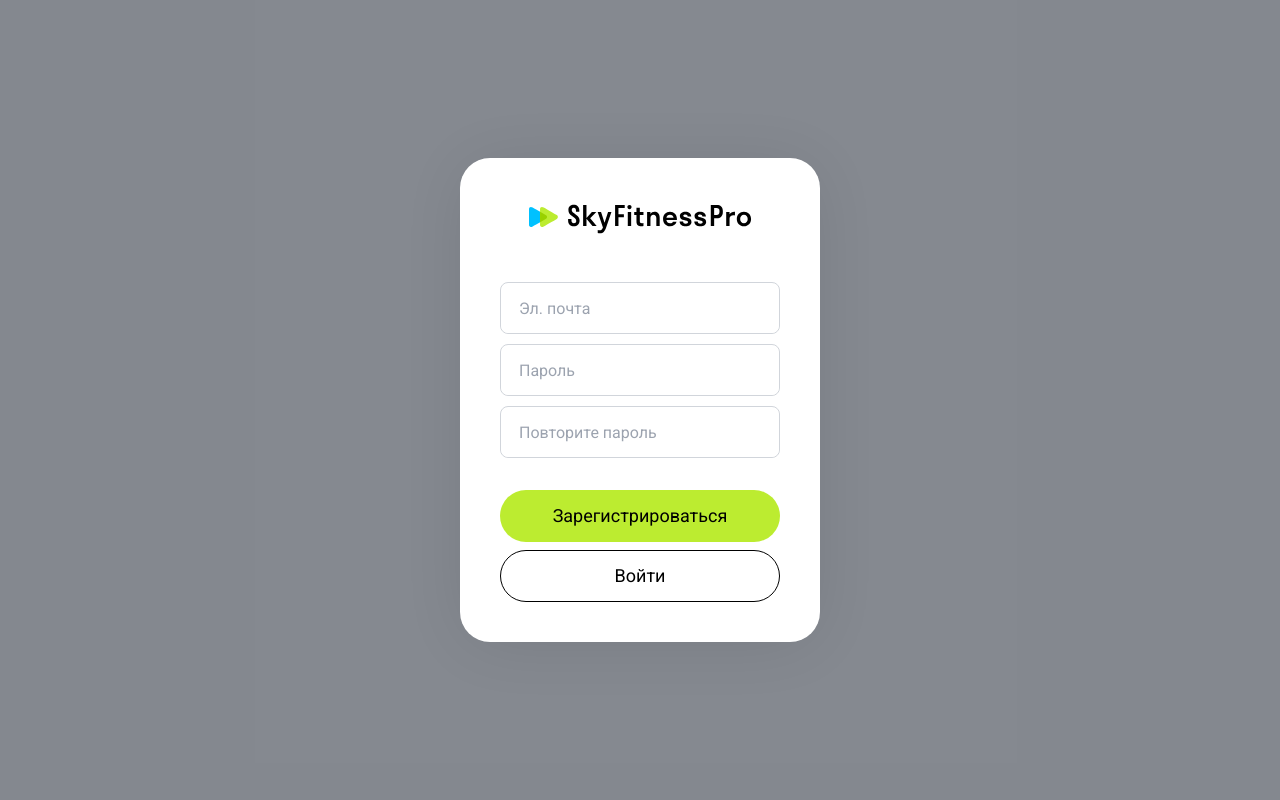
Register Component › должен показывать ошибку при несовпадающих паролях
Type "test@example.com" into the field with placeholder "Эл. почта" at [640, 308], box [501,284,779,332]
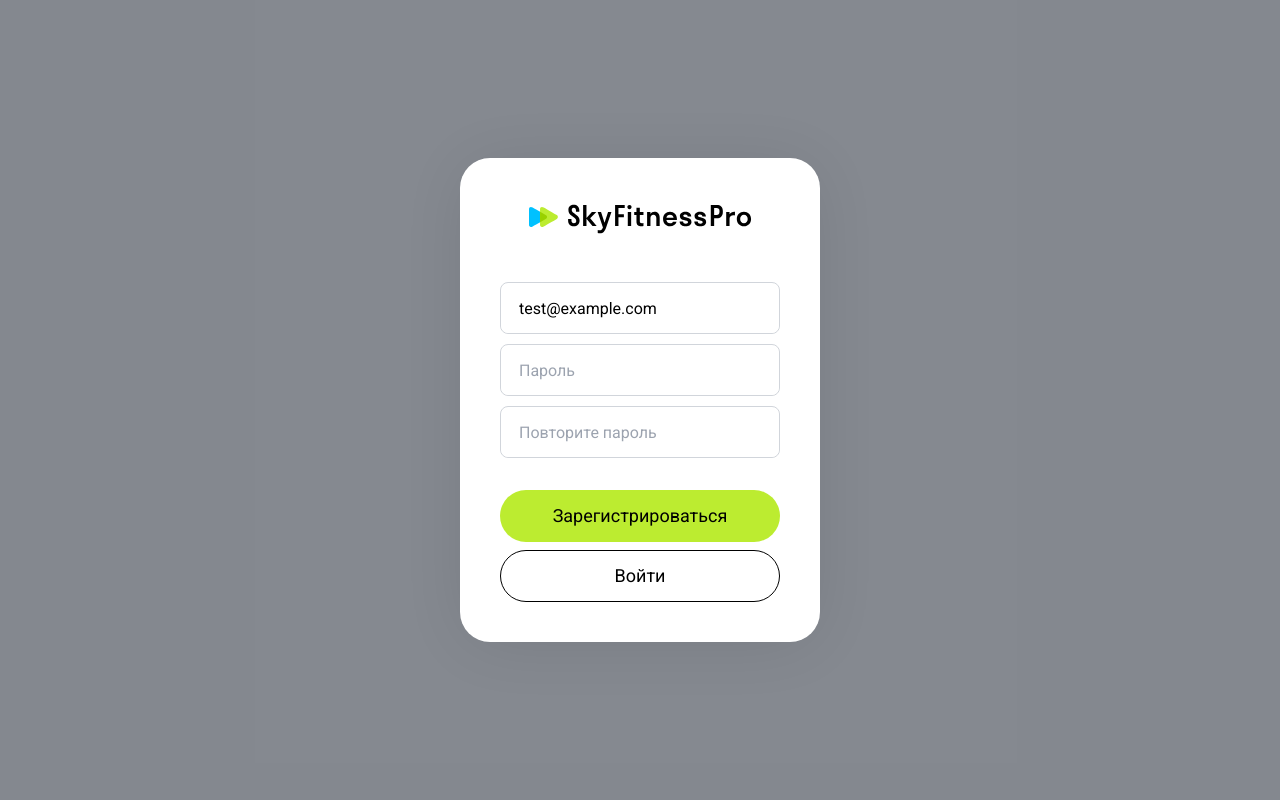
Type "password123" into the password field with placeholder "Пароль" at [640, 370], box [501,346,779,394]
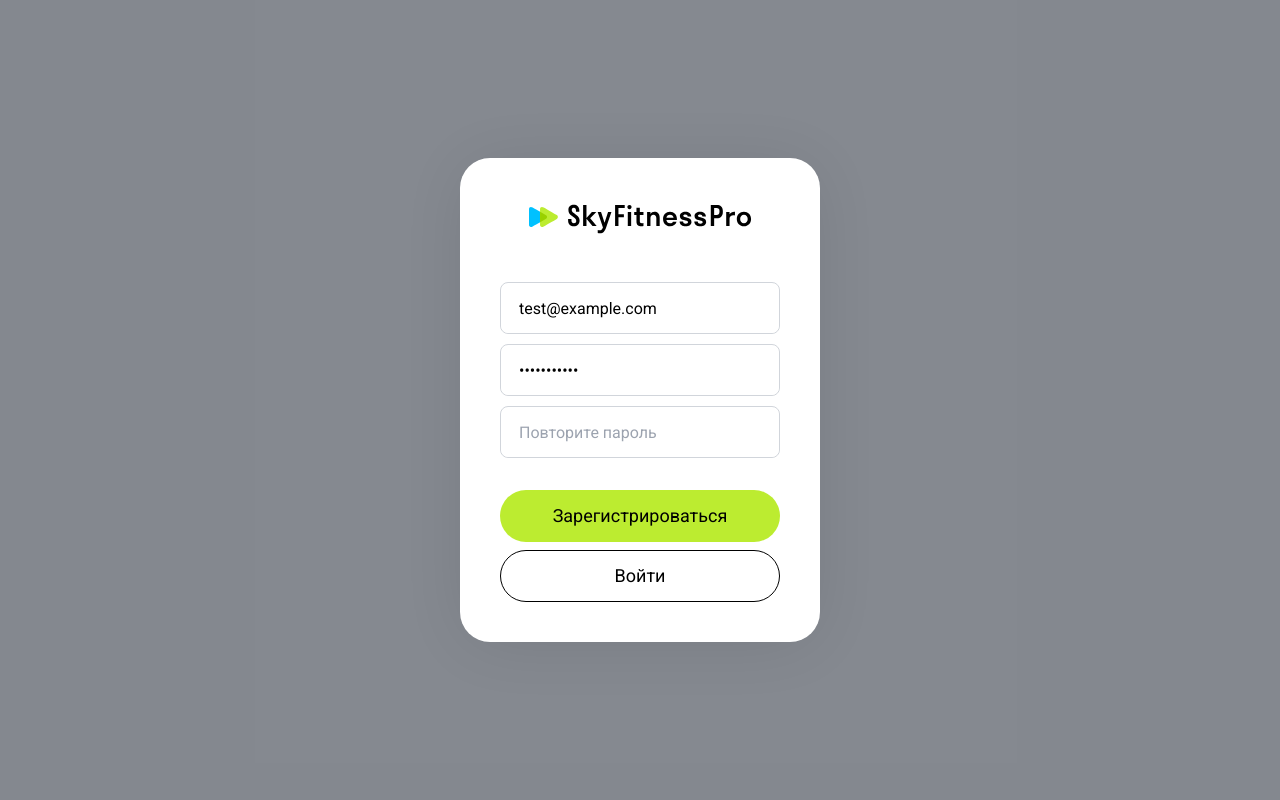
Type "differentpassword" into the password field with placeholder "Повторите пароль" at [640, 432], box [501,408,779,456]
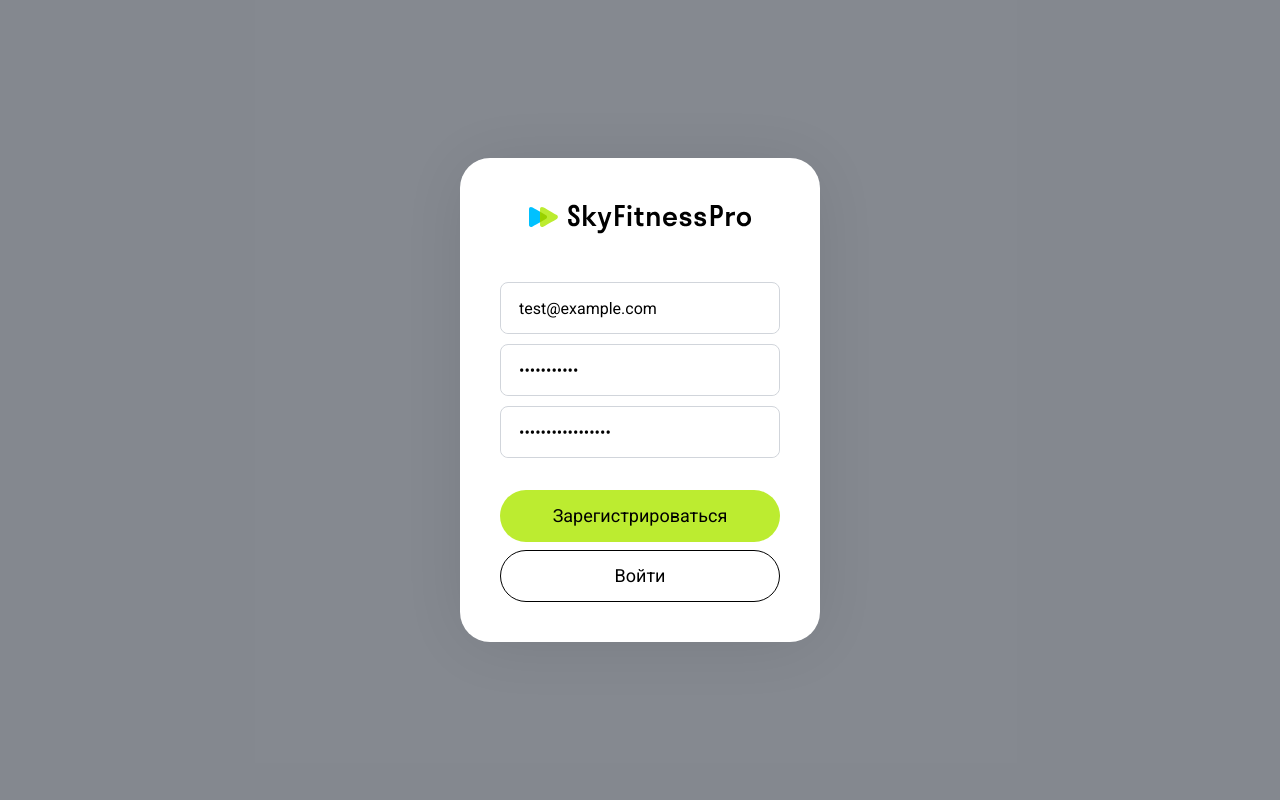
Click the button "Зарегистрироваться" at [640, 516], box [500,490,780,542]
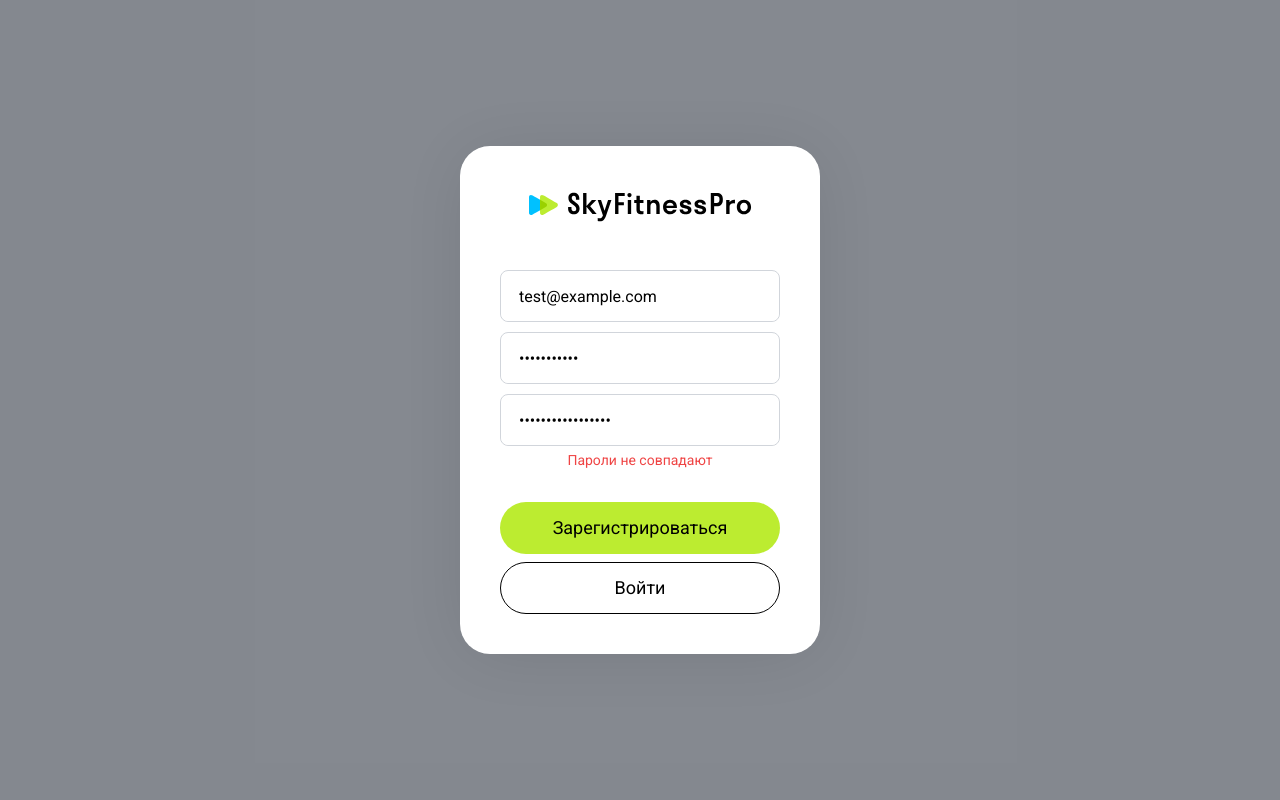
Now the text "Пароли не совпадают" is shown, box [567,452,713,468]
